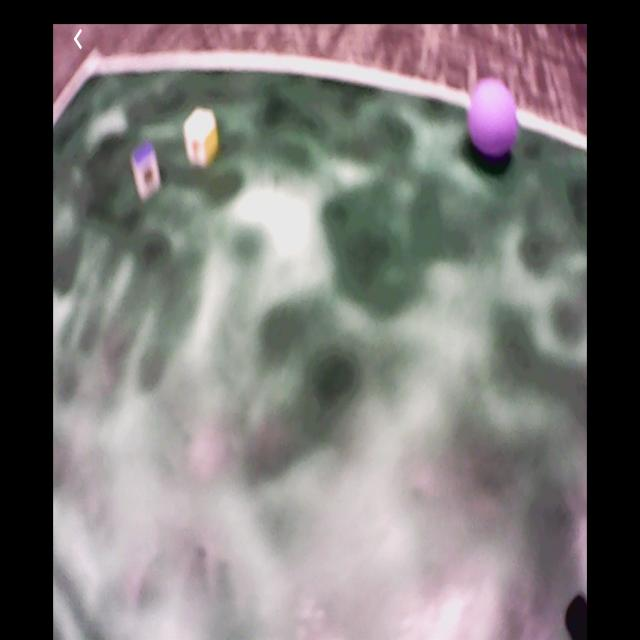ball: (469, 76, 519, 161)
